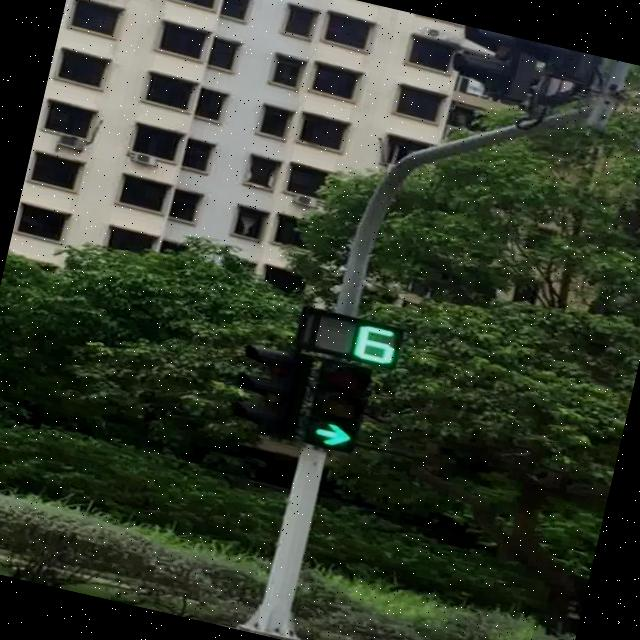green_light: (300, 354, 371, 452)
